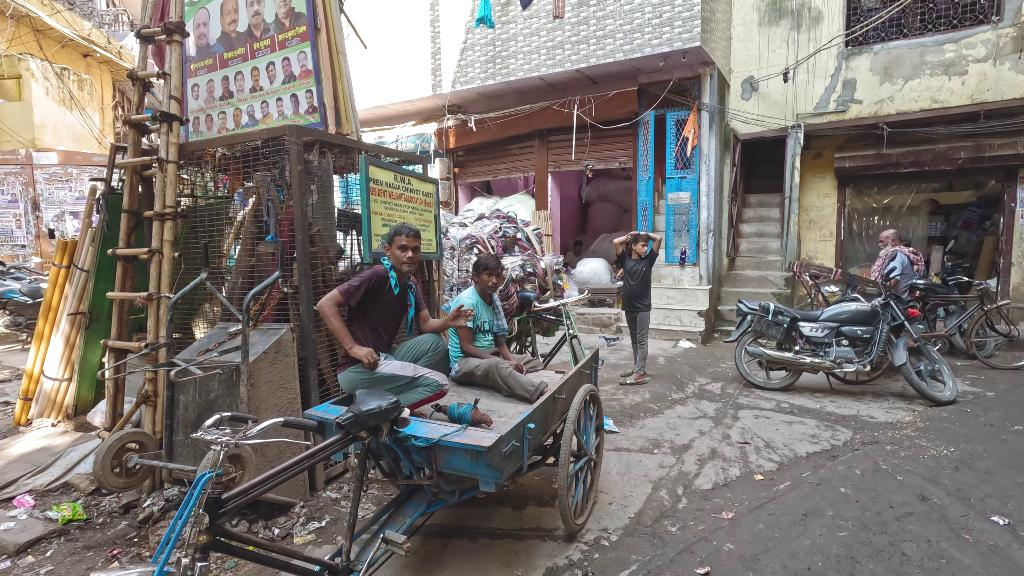garbage: (52, 503, 89, 526), (11, 487, 40, 513), (671, 334, 702, 357)
